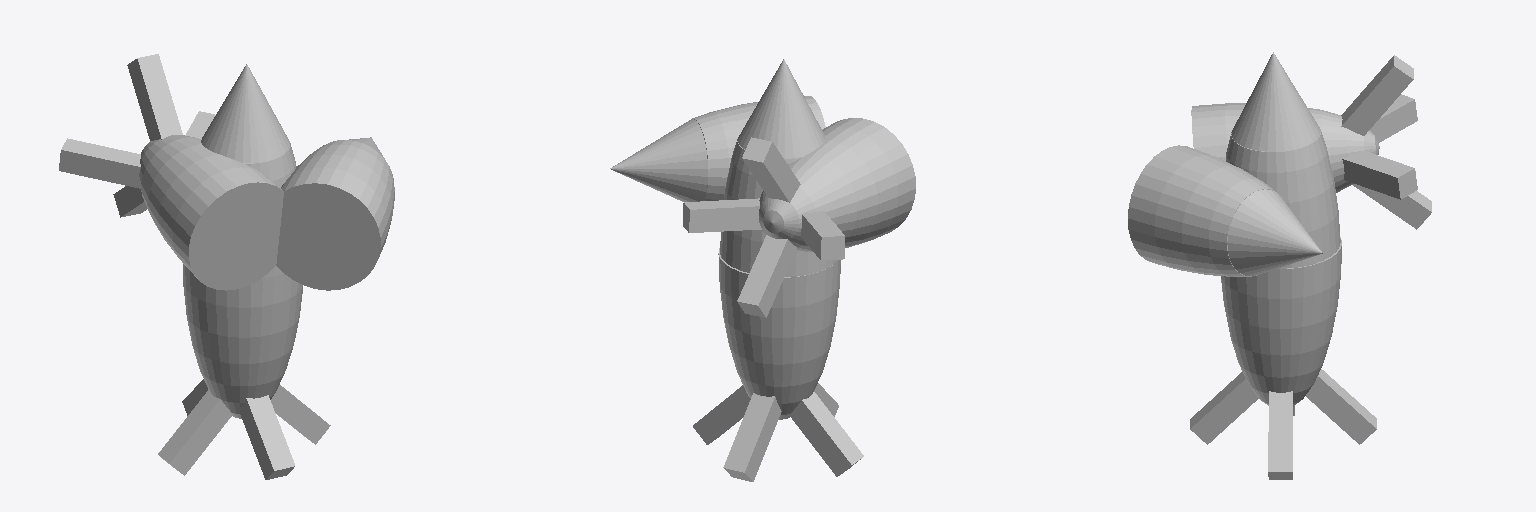
The model's file is rocket.obj.
3 renders of one model, left to right at view 1: azimuth 30°, elevation 25°; view 2: azimuth 150°, elevation 25°; view 3: azimuth 270°, elevation 25°, orthographic.
Visible parts, largest first — view 1: rocket_-_isBuilt_=_False_Cube.010, rocket_-_isBuilt_=_True_Cube.006; view 2: rocket_-_isBuilt_=_False_Cube.010, rocket_-_isBuilt_=_True_Cube.006; view 3: rocket_-_isBuilt_=_True_Cube.006, rocket_-_isBuilt_=_False_Cube.010.
Boxes of the visible parts, <box> form: rocket_-_isBuilt_=_False_Cube.010: <box>59,54,394,290</box>; rocket_-_isBuilt_=_True_Cube.006: <box>158,64,330,479</box>; rocket_-_isBuilt_=_False_Cube.010: <box>610,96,915,317</box>; rocket_-_isBuilt_=_True_Cube.006: <box>693,59,863,481</box>; rocket_-_isBuilt_=_True_Cube.006: <box>1190,52,1376,479</box>; rocket_-_isBuilt_=_False_Cube.010: <box>1128,55,1431,276</box>.
Bounding box in the file's own units: 5.2 × 7.18 × 5.